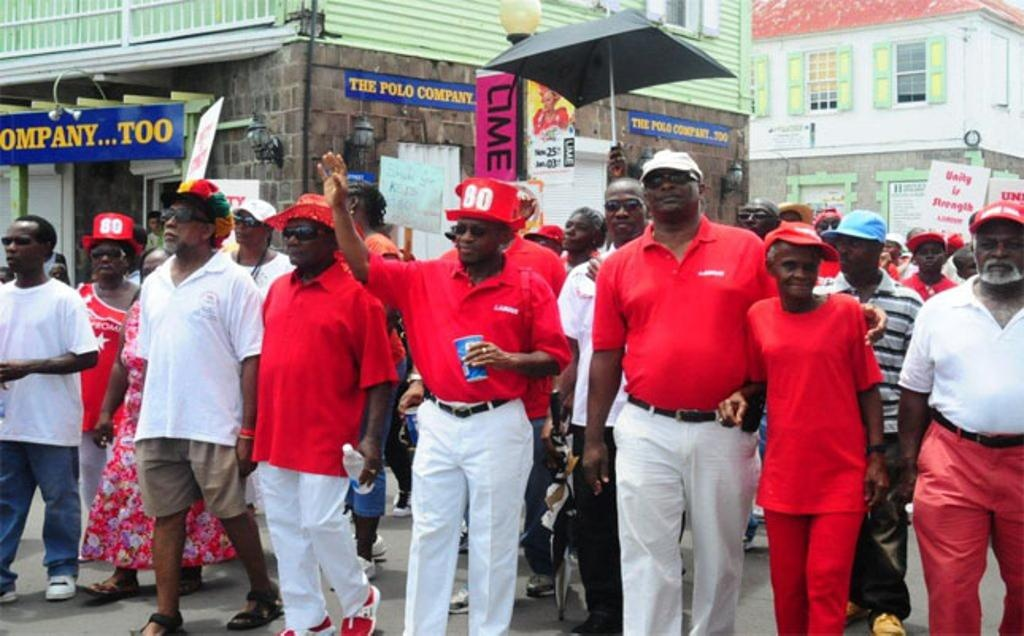human_face: (972, 216, 1024, 282), (772, 241, 820, 297), (646, 165, 696, 212), (604, 185, 646, 237), (284, 213, 324, 265), (455, 211, 497, 260), (162, 199, 200, 251), (834, 228, 874, 272), (4, 224, 40, 268), (90, 234, 124, 276), (737, 202, 771, 240), (561, 212, 591, 248), (234, 207, 262, 243), (143, 258, 169, 292), (915, 240, 943, 270), (778, 209, 804, 238), (816, 217, 840, 245), (964, 256, 980, 280), (540, 90, 554, 110), (882, 239, 896, 259), (50, 265, 64, 281), (148, 216, 160, 230)
